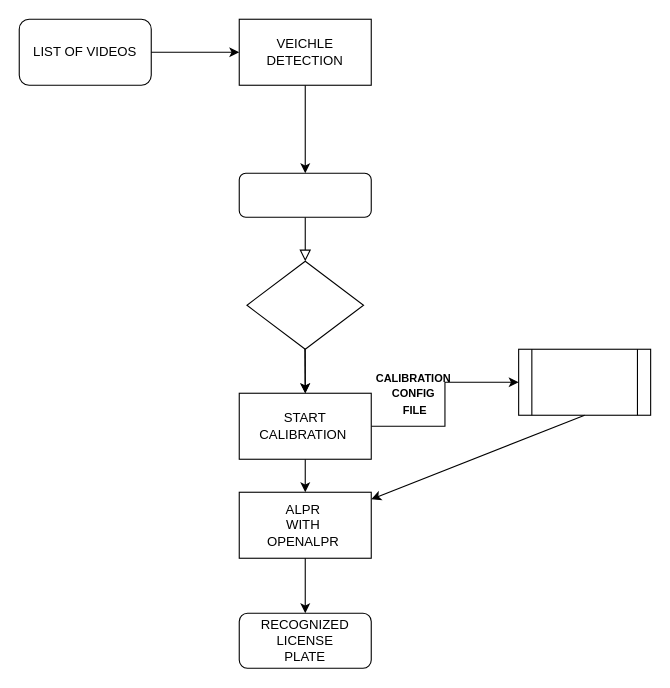
This 670x688 diagram has some shape labels left out. Here are the shapes that lost their labels. From the top down, the centre of each, then its label:
At point (304, 194): "CAR PHOTO".
At point (305, 304): "IS FIRST VIDEO?".
At point (584, 381): "PROJECT FOLDER".
